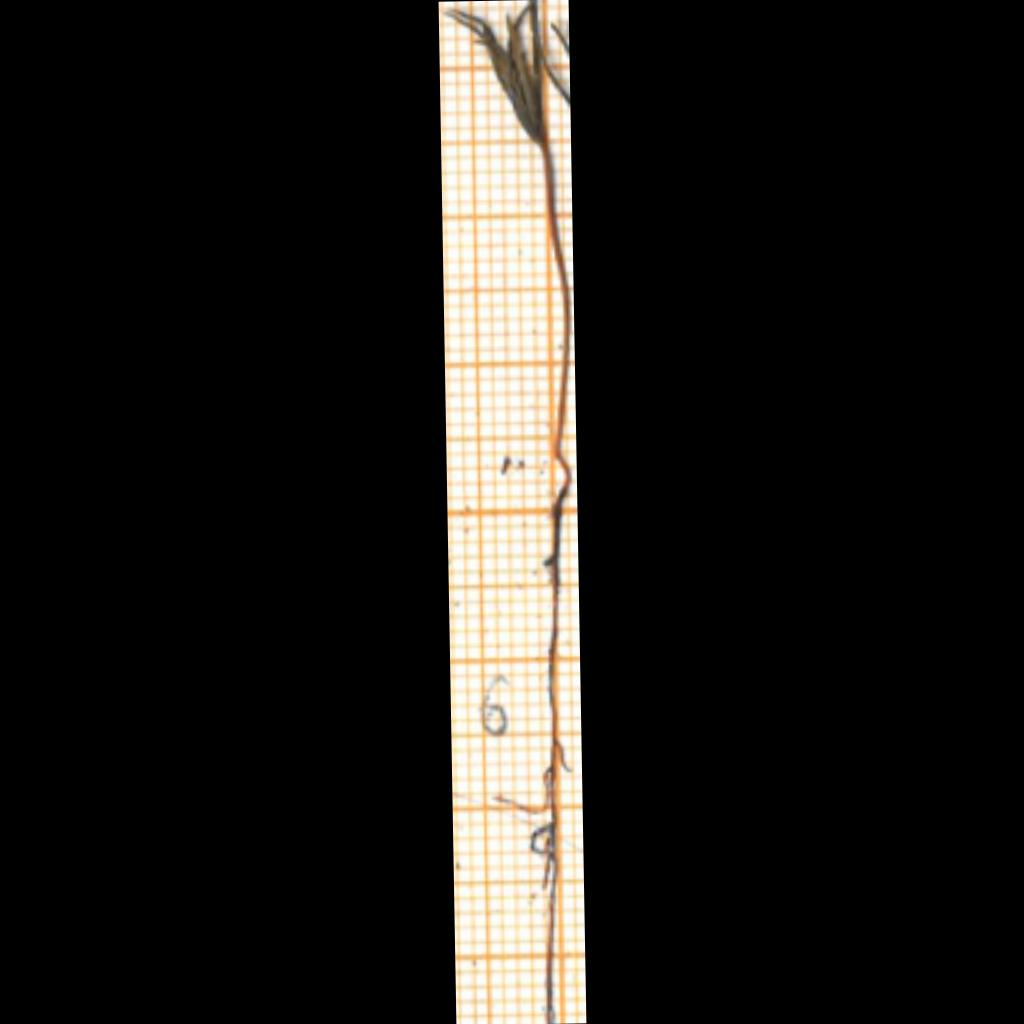flowerPinus: (447, 0, 542, 144)
rootPinus: (503, 464, 571, 1023)
stemPinus: (543, 131, 571, 460)
